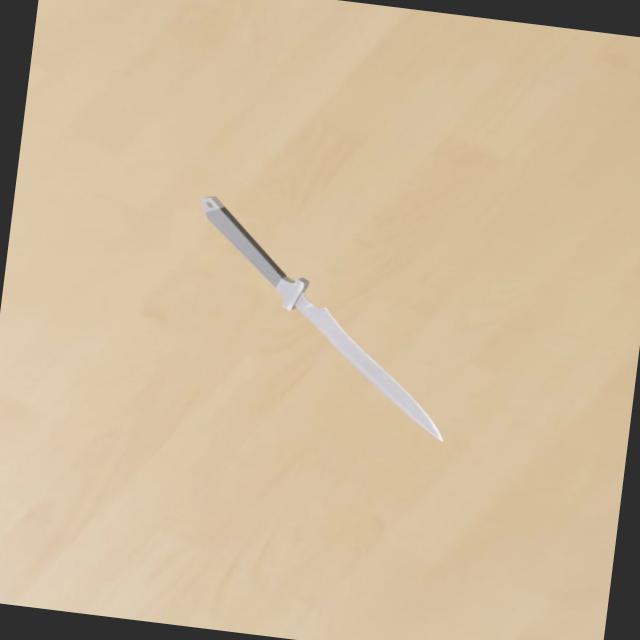knife: (191, 195, 293, 288)
